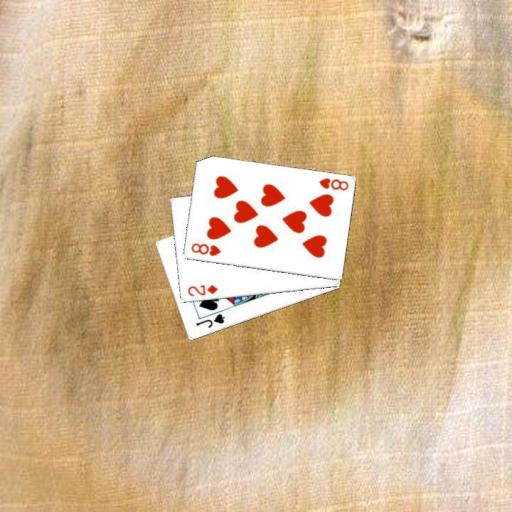2D: (184, 282, 219, 298)
8H: (188, 241, 222, 258), (316, 175, 350, 192)
JS: (193, 311, 226, 330)
